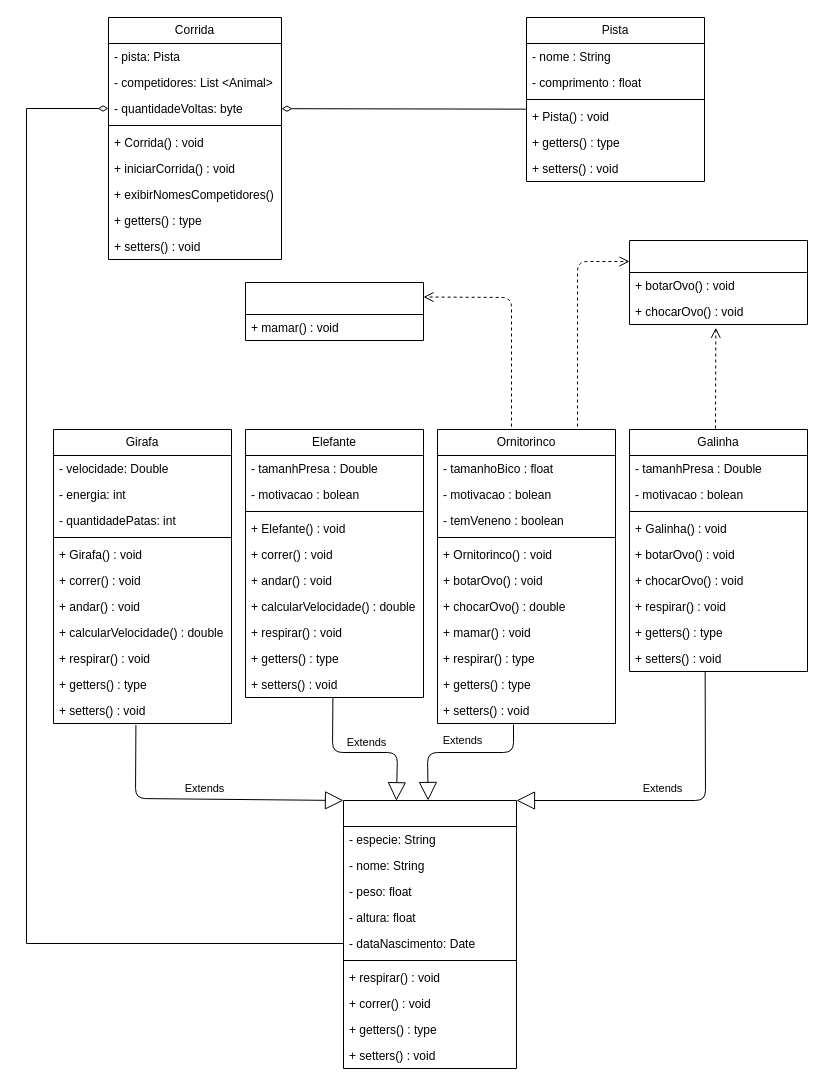
Image size: 825x1089. Some labels were removed from this diagram. The box of each missing label's shape, as (x1, y1, x2, y2) in pixels:
<<Interface>> Mamifero: (244, 282, 424, 340)
<<Interface>> Oviparo: (628, 240, 808, 324)
Animal: (342, 800, 516, 1068)
